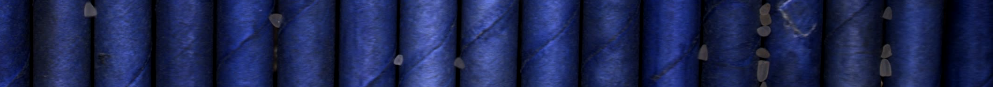broken_grain: (753, 59, 770, 87), (877, 4, 897, 23), (878, 58, 895, 80), (879, 40, 896, 61), (697, 41, 710, 65), (268, 13, 285, 31), (753, 23, 773, 38), (82, 2, 98, 20), (452, 53, 466, 71), (756, 2, 774, 16)
milky_broken_grain: (392, 51, 404, 67)
yellow_grain: (753, 45, 773, 61), (759, 12, 775, 27)
